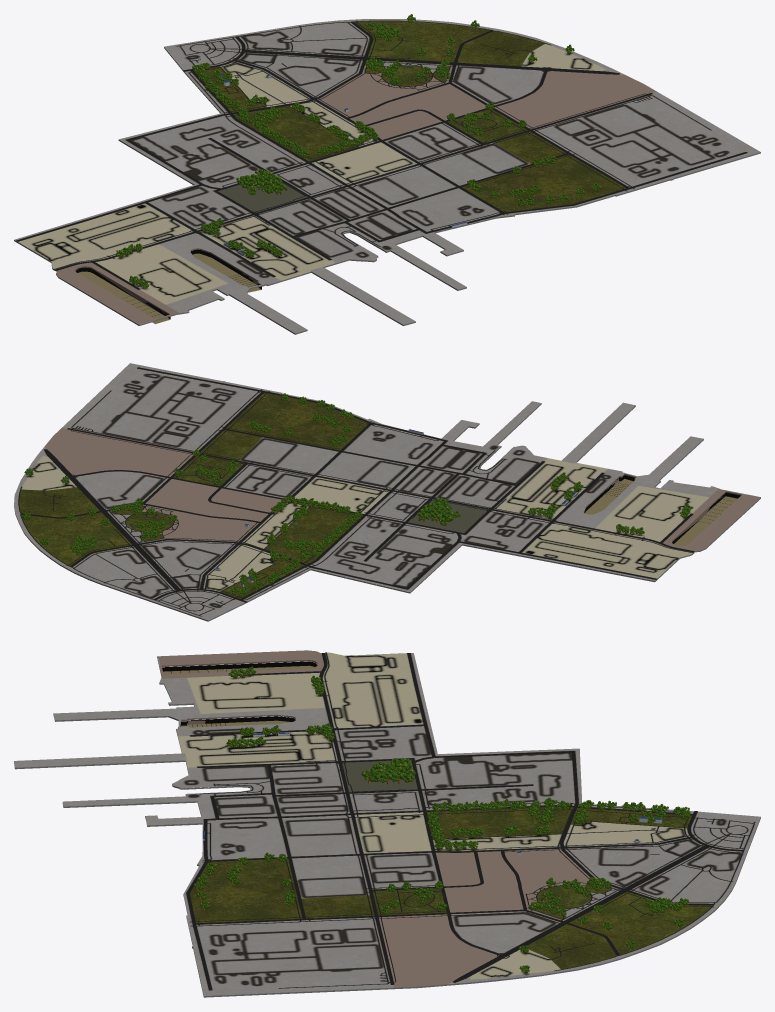
File: Philly_Area-2.glb
The picture shows the model from 3 angles, top to bottom: view 1: azimuth 30°, elevation 25°; view 2: azimuth 150°, elevation 25°; view 3: azimuth 270°, elevation 25°; orthographic projection. The views are drawn at different scales.
Parts seen in each view (by area): view 1: Philly_Area 2; view 2: Philly_Area 2; view 3: Philly_Area 2.
Boxes of the visible parts, left/top/right/bottom form: Philly_Area 2: left=14, top=14, right=760, bottom=334; Philly_Area 2: left=14, top=363, right=760, bottom=621; Philly_Area 2: left=14, top=650, right=760, bottom=997.
Bounding box in the file's own units: 1625 × 42.85 × 1483.
Materials: 17 (7 with a texture image).
